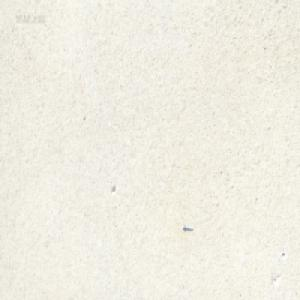Nail: (182, 224, 193, 232)
